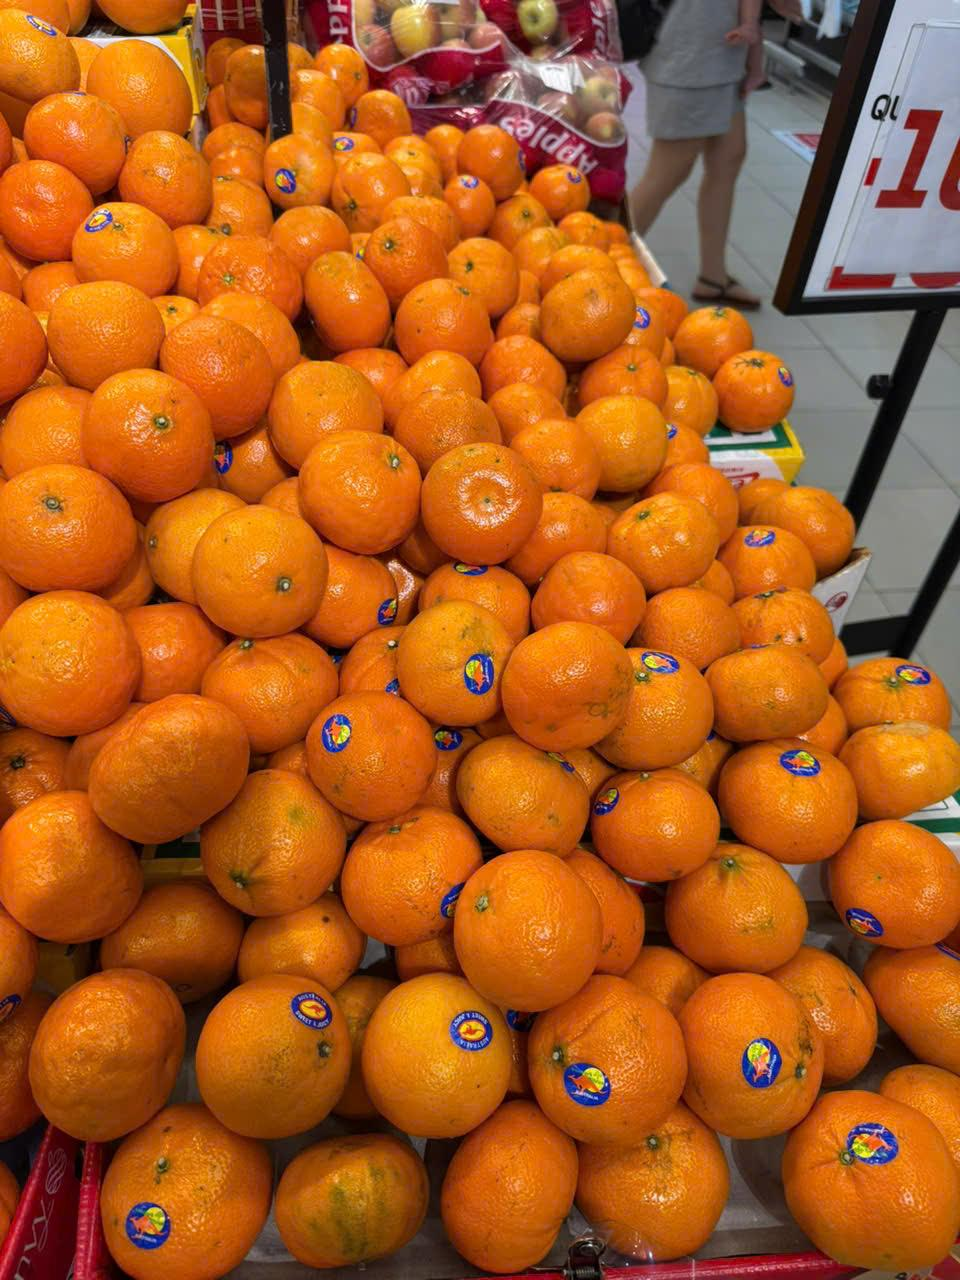orange: (98, 1106, 284, 1274), (800, 1085, 952, 1272), (430, 1106, 592, 1272), (25, 966, 184, 1130), (83, 698, 258, 846), (200, 968, 354, 1128), (450, 846, 610, 1000), (367, 976, 514, 1140), (0, 790, 152, 941), (532, 983, 690, 1128), (663, 823, 812, 976), (610, 1106, 738, 1280), (282, 1123, 430, 1268), (578, 758, 728, 900), (200, 768, 344, 912), (680, 966, 814, 1120), (185, 481, 324, 626), (490, 613, 630, 756), (80, 356, 228, 488), (0, 596, 178, 699), (301, 688, 436, 821), (825, 813, 960, 945), (328, 815, 466, 936), (455, 736, 588, 856), (10, 466, 140, 588), (730, 746, 860, 866), (303, 435, 428, 553), (255, 341, 392, 447), (440, 445, 544, 584), (713, 645, 840, 744), (400, 611, 508, 714), (61, 278, 172, 376), (585, 390, 674, 502), (590, 486, 710, 567), (392, 263, 492, 358), (847, 726, 960, 807), (710, 348, 822, 429), (541, 265, 636, 354), (725, 518, 822, 606), (301, 248, 394, 336), (80, 206, 179, 279), (198, 246, 304, 311)
